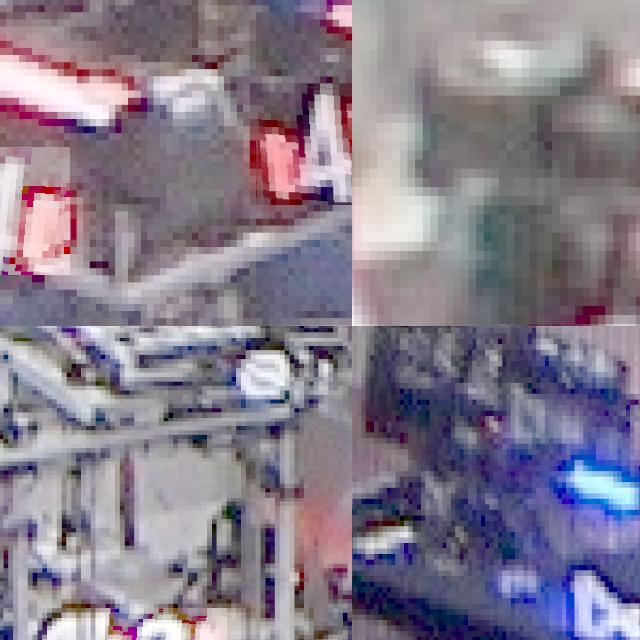R2: (105, 608, 226, 640)
R4: (249, 83, 352, 204), (0, 147, 70, 275)
